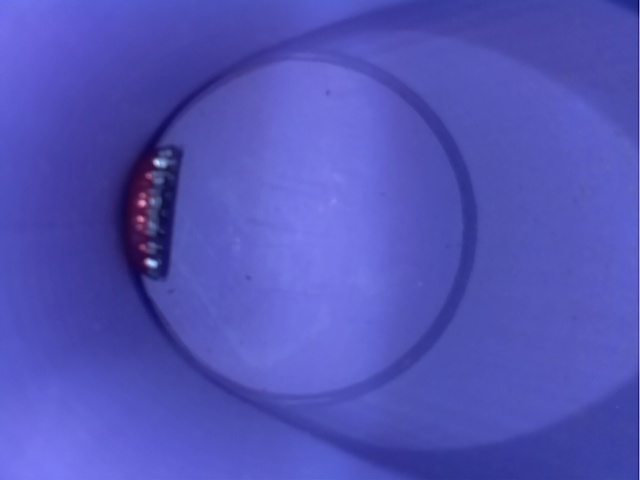capsule: (98, 120, 213, 296)
